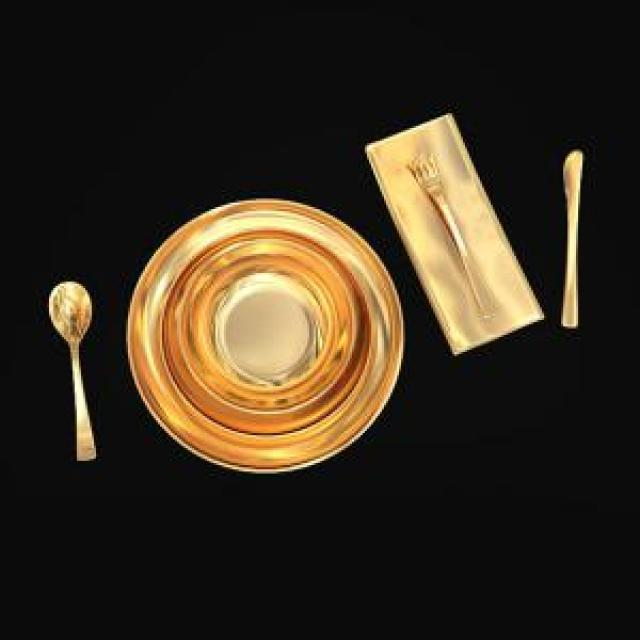knife: (552, 147, 589, 328)
